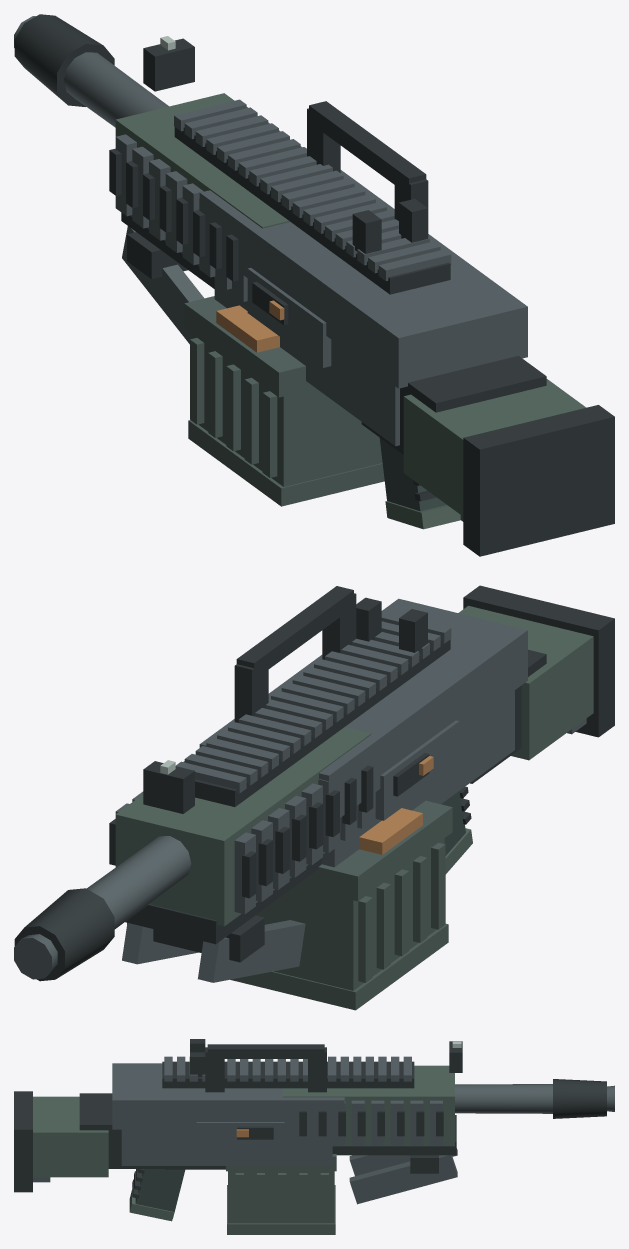
File: bulwark.glb
3 views of the same model, one above another, from view 1: azimuth 30°, elevation 25°; view 2: azimuth 150°, elevation 25°; view 3: azimuth 270°, elevation 25° (orthographic). The views are drawn at different scales.
Visible parts, largest first — view 1: Bulwark_vm_gunmetal, Bulwark_vm_gundark, Bulwark_vm_mag, Bulwark_vm_polymerLight, Bulwark_vm_accent, Bulwark_vm_polymer; view 2: Bulwark_vm_gunmetal, Bulwark_vm_gundark, Bulwark_vm_mag, Bulwark_vm_polymerLight, Bulwark_vm_accent, Bulwark_vm_polymer; view 3: Bulwark_vm_gunmetal, Bulwark_vm_gundark, Bulwark_vm_polymerLight, Bulwark_vm_mag, Bulwark_vm_polymer.
Part boxes in pixels (box(x1,y1,x2,y2)): Bulwark_vm_gunmetal: box(14, 16, 527, 521); Bulwark_vm_gundark: box(14, 14, 614, 556); Bulwark_vm_mag: box(184, 296, 384, 506); Bulwark_vm_polymerLight: box(115, 93, 585, 529); Bulwark_vm_accent: box(216, 300, 284, 352); Bulwark_vm_polymer: box(379, 438, 446, 511); Bulwark_vm_gunmetal: box(14, 598, 586, 982); Bulwark_vm_gundark: box(14, 585, 614, 981); Bulwark_vm_mag: box(230, 800, 452, 1010); Bulwark_vm_polymerLight: box(115, 605, 593, 926); Bulwark_vm_accent: box(359, 756, 433, 854); Bulwark_vm_polymer: box(441, 790, 465, 855); Bulwark_vm_gunmetal: box(33, 1056, 614, 1204); Bulwark_vm_gundark: box(14, 1039, 606, 1198); Bulwark_vm_polymerLight: box(33, 1065, 454, 1221); Bulwark_vm_mag: box(226, 1154, 336, 1234); Bulwark_vm_polymer: box(135, 1169, 185, 1218).
Bounding box in the file's own units: 0.256 × 0.465 × 1.38.
